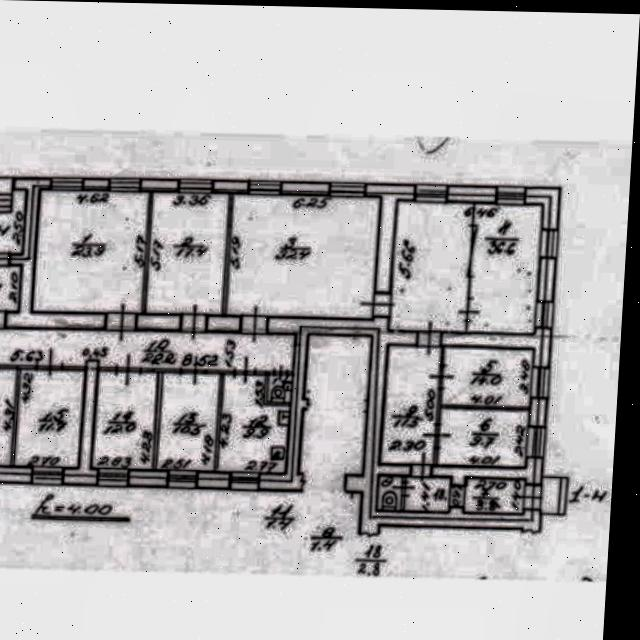room: (227, 194, 379, 318), (34, 187, 148, 316), (0, 330, 294, 371), (390, 198, 473, 335), (147, 191, 228, 316), (468, 201, 541, 336), (218, 373, 292, 476), (382, 344, 440, 466), (16, 367, 83, 470), (93, 368, 157, 470), (157, 371, 218, 472), (442, 346, 532, 406), (438, 410, 529, 467), (464, 478, 524, 515), (0, 189, 26, 254), (404, 476, 450, 511), (0, 369, 15, 464), (377, 475, 402, 512), (0, 266, 20, 310), (540, 477, 559, 513), (269, 376, 291, 403)
